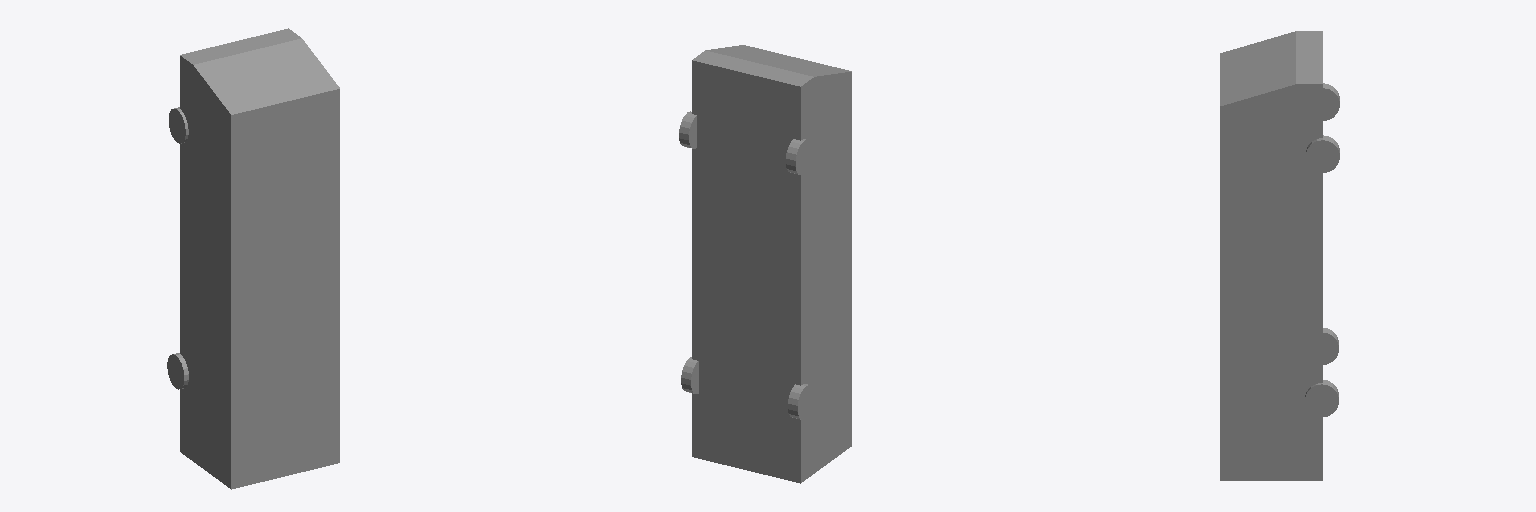
Rendered from bus.obj.
3 renders of one model, left to right at view 1: azimuth 30°, elevation 25°; view 2: azimuth 150°, elevation 25°; view 3: azimuth 270°, elevation 25°, orthographic.
Parts seen in each view (by area): view 1: _2; view 2: _2; view 3: _2.
Boxes of the visible parts, <box> form: _2: <box>167,28,339,489</box>; _2: <box>679,45,851,483</box>; _2: <box>1220,31,1339,480</box>.
Size of the model in its own units: 56.34 by 181 by 49.35.